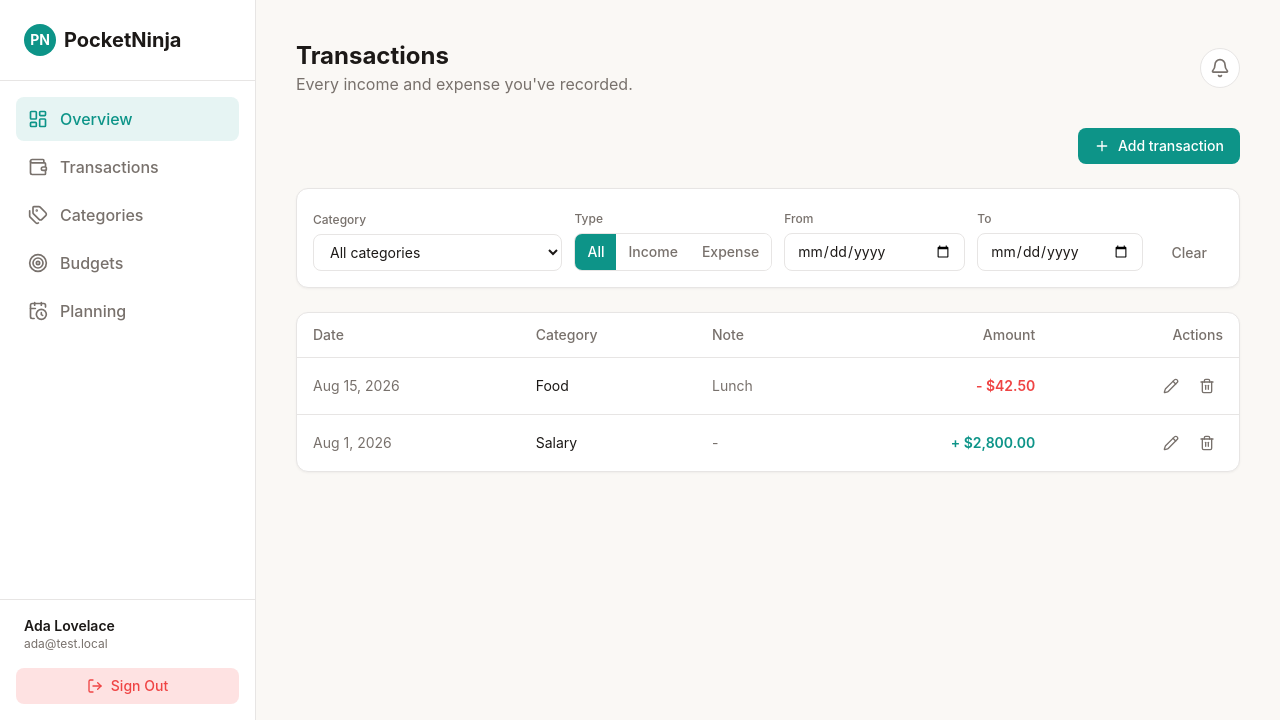
Test: TransactionsPage › Edit opens the dialog prefilled from that row
The width and height of the screenshot is (1280, 720).
Expected: the text "Lunch" is shown, [696,358,833,414]
Click the button named "Edit transaction" in the row of "Aug 15, 2026": click(1171, 386) [1155,370,1187,402]
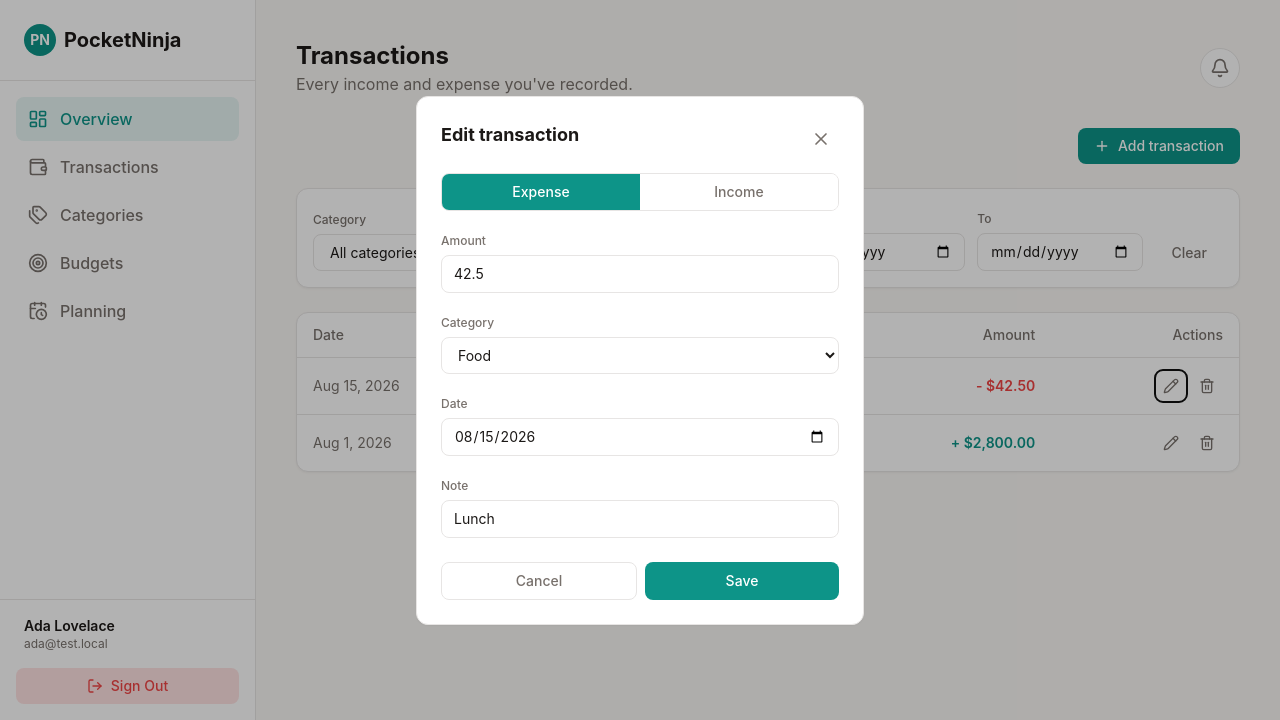
Result: the number field labelled "Amount" holds "42.5" at [441,254,839,292]
Result: the field labelled "Note" holds "Lunch" at [441,500,839,538]
